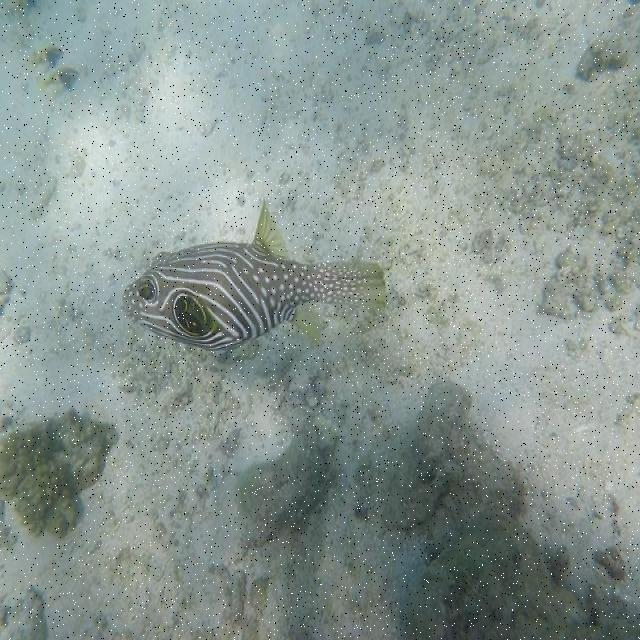aquatic plants: (0, 410, 119, 539)
fish: (120, 202, 385, 350)
sea-floor: (377, 380, 639, 639)
